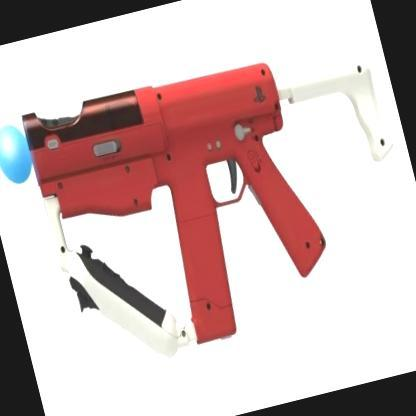rifle: (0, 12, 416, 366)
